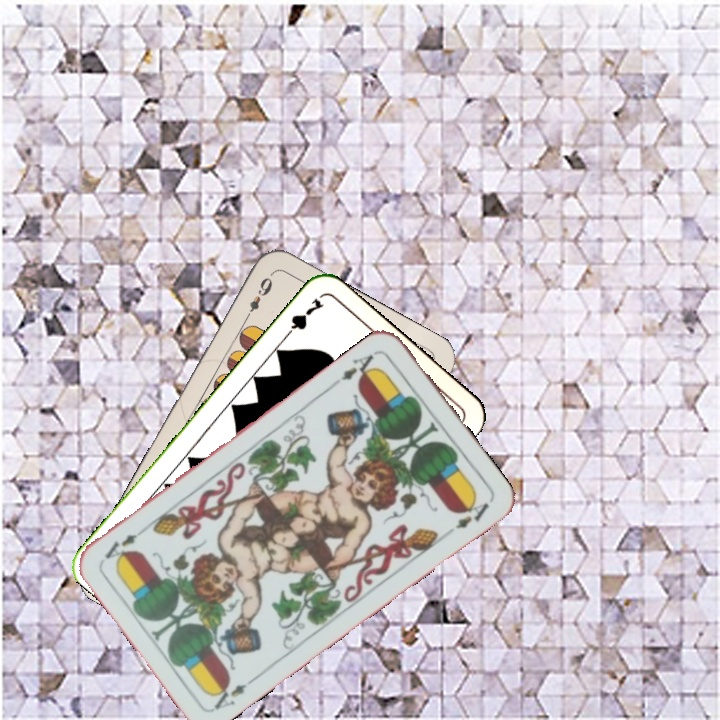E9: (240, 273, 275, 324)
EA: (207, 672, 260, 713), (337, 347, 381, 385)
G7: (279, 294, 327, 343)
